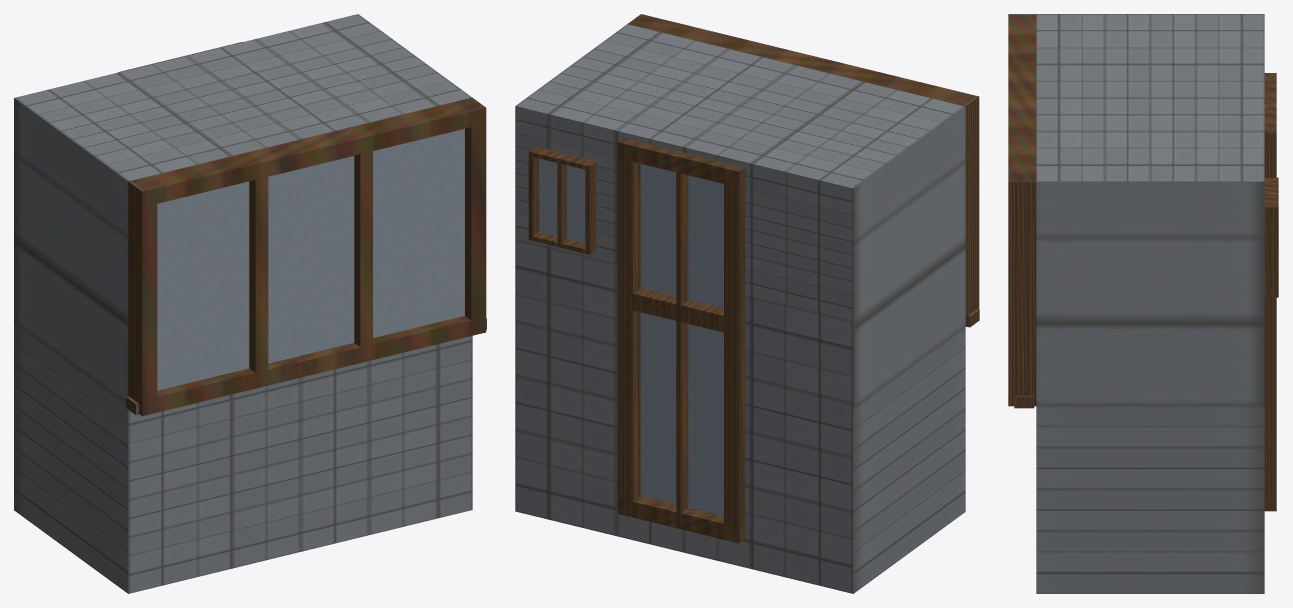
The model's file is balcony.obj.
3 renders of one model, left to right at view 1: azimuth 30°, elevation 25°; view 2: azimuth 150°, elevation 25°; view 3: azimuth 270°, elevation 25°, orthographic.
Size of the model in its own units: 2.04 by 2.29 by 1.36.
